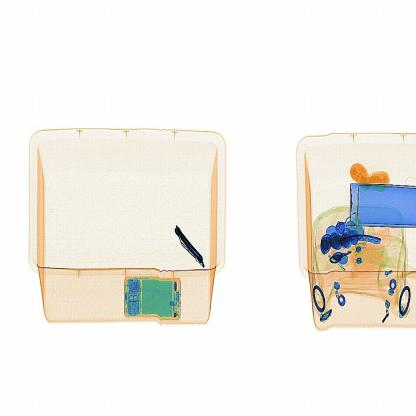knife: (173, 226, 206, 271)
